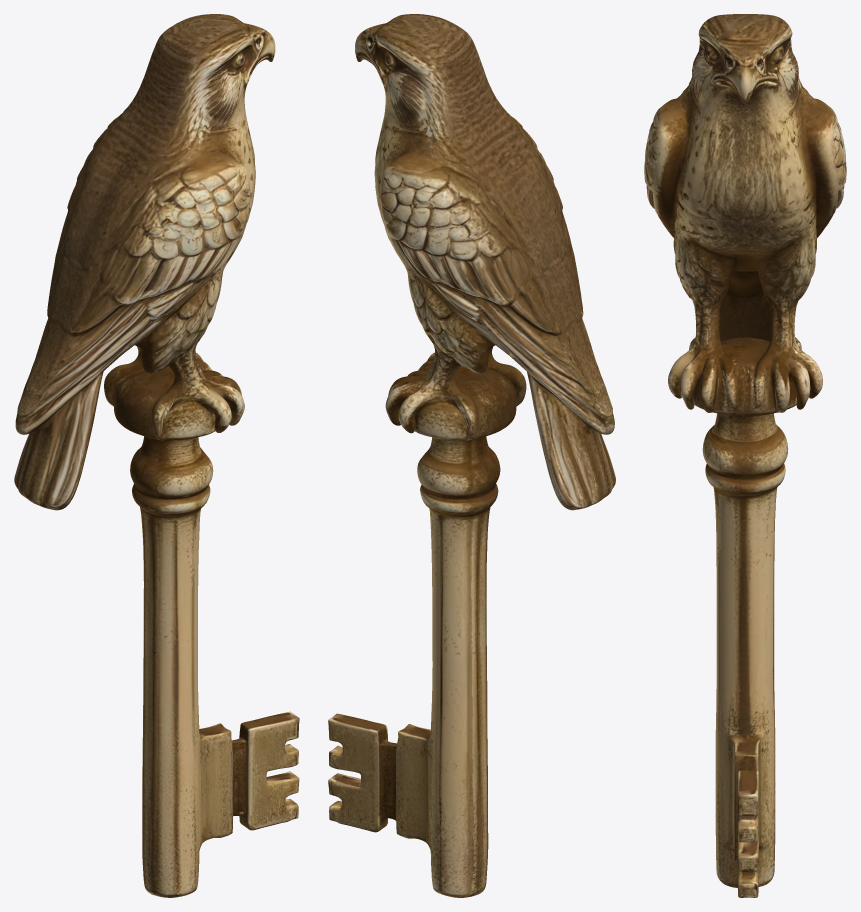
File: falcon-key.glb
3 renders of one model, left to right at view 1: azimuth 30°, elevation 25°; view 2: azimuth 150°, elevation 25°; view 3: azimuth 270°, elevation 25°, orthographic. The views are drawn at different scales.
Parts seen in each view (by area): view 1: node_0; view 2: node_0; view 3: node_0.
Part boxes in pixels (box(x1,y1,x2,y2)): node_0: box(14, 14, 299, 897); node_0: box(328, 14, 615, 897); node_0: box(644, 14, 846, 897).
Bounding box in the file's own units: 0.4022 × 1.18 × 0.2446.
1 material, 1 textured.
